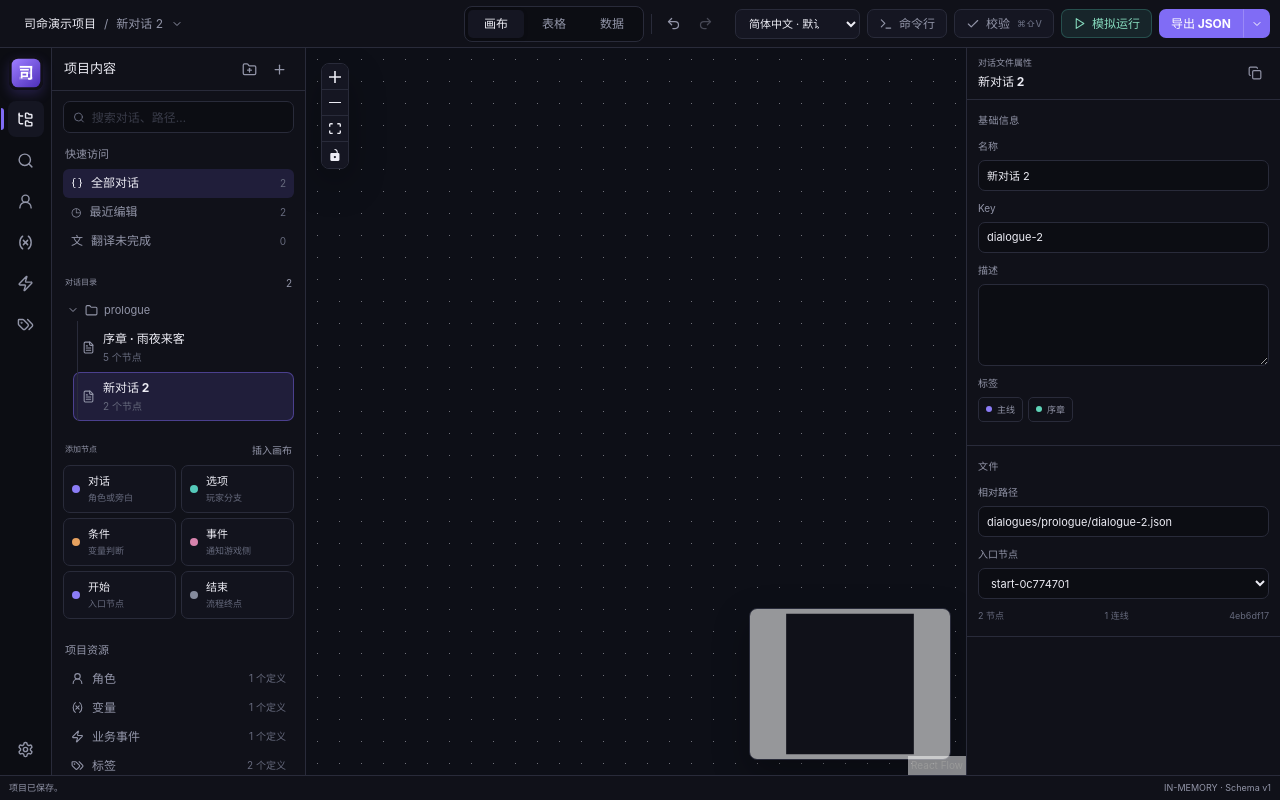
Test case: dialogue directories can be collapsed and search expands matches
Expected: the number of buttons with class "tree-file" is 2, [73,322,294,372]; [73,372,294,420]
Click the button "prologue" at (178, 310), box [63,298,294,322]
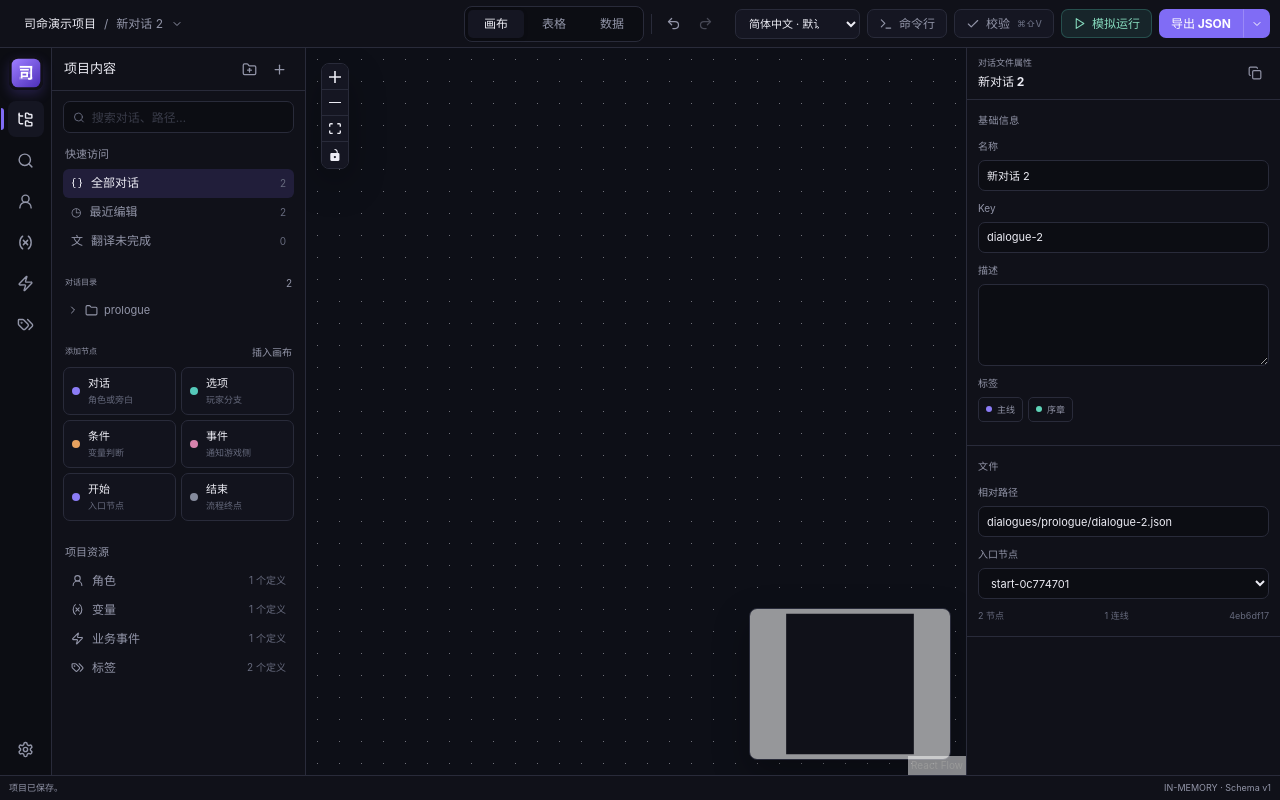
Expected: the button "prologue" is collapsed, [63,298,294,322]
Expected: no buttons with class "tree-file" are shown
Type "新对话 2" into the field with placeholder "搜索对话、路径…" at (188, 117), box [92,102,284,132]
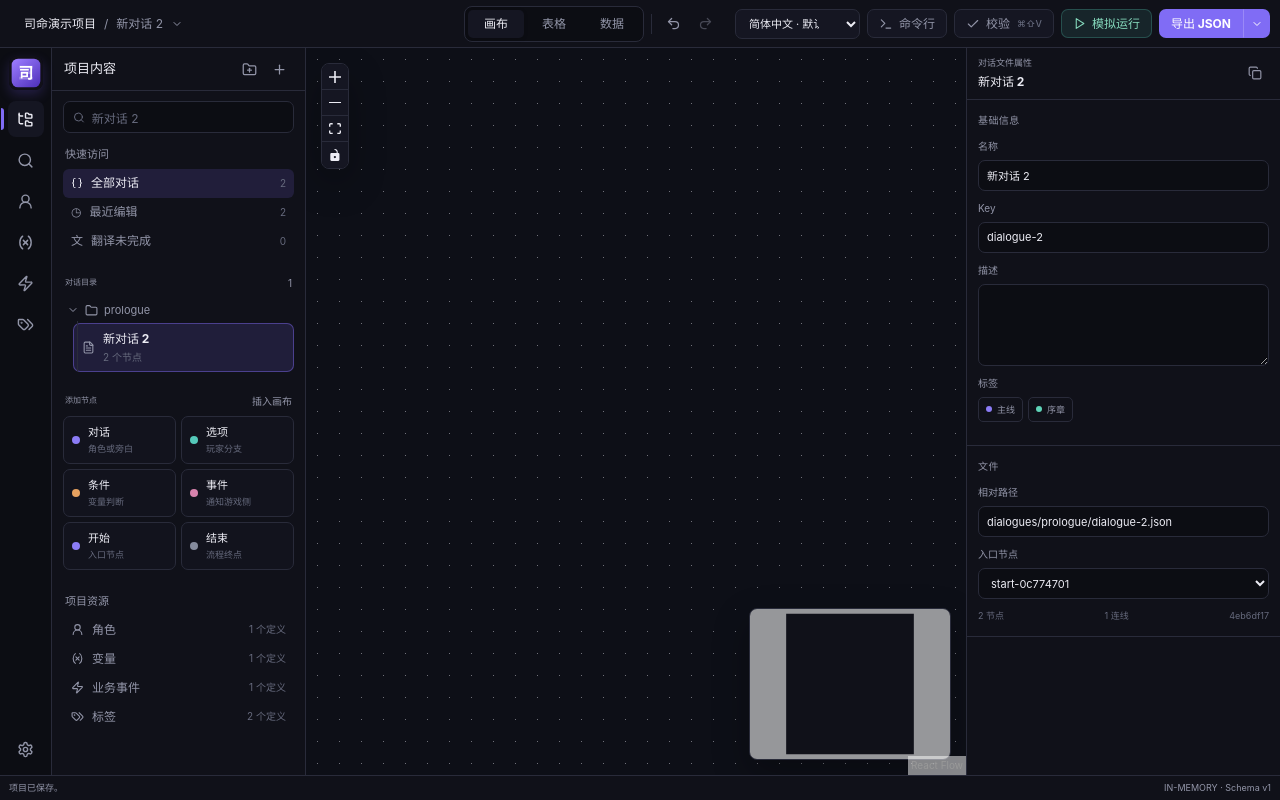
Expected: the button "prologue" is expanded, [63,298,294,322]
Expected: the number of buttons with class "tree-file" is 1, [73,322,294,372]
